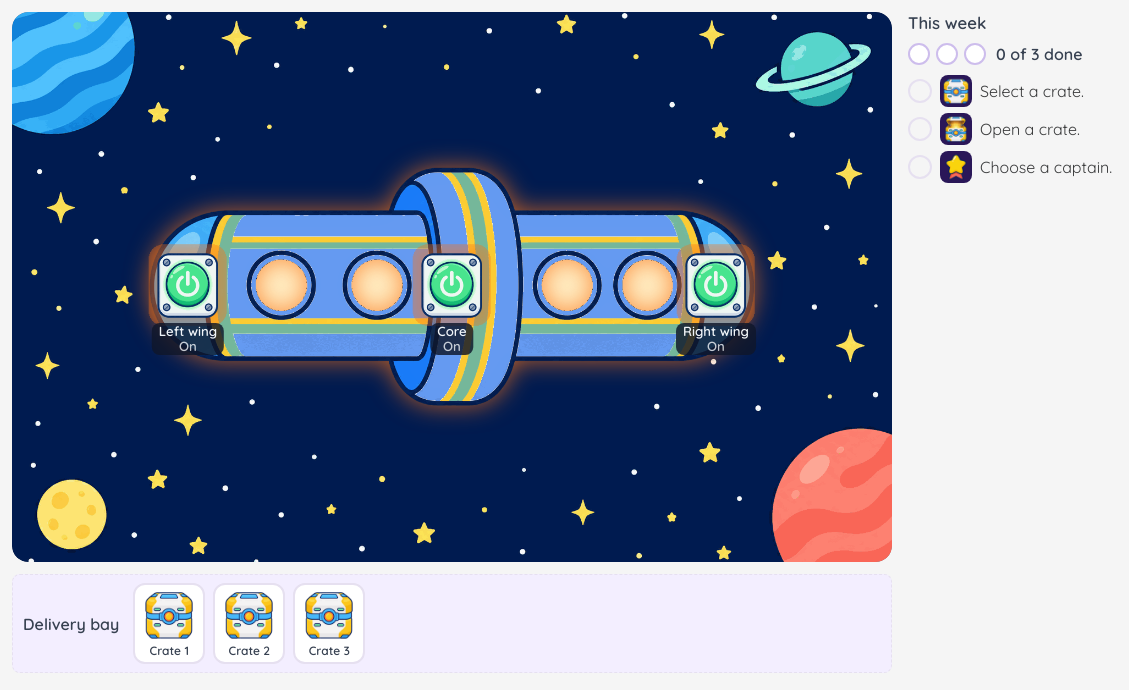
Scenario: Station UI - Lesson 2 (select, double-click, captain) › the delivery bay goes once every crate is open
Double-click the button with test id "crate-crate-1" at [169, 624], box [133, 583, 205, 664]
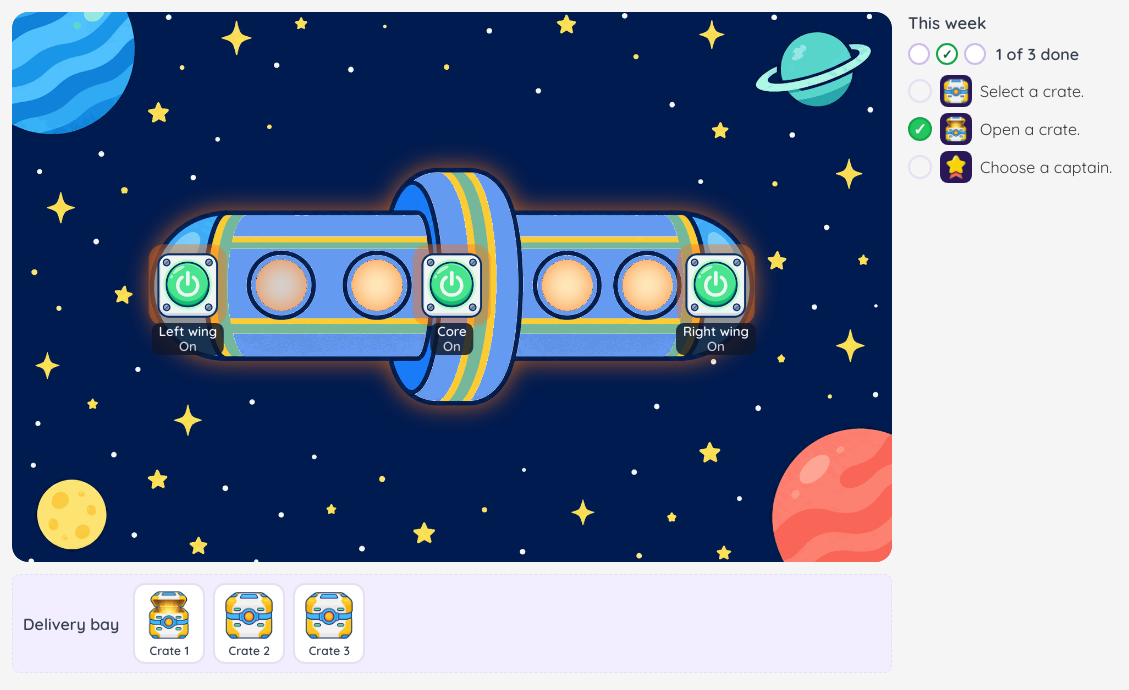
Double-click the button with test id "crate-crate-2" at [249, 624], box [213, 583, 285, 664]
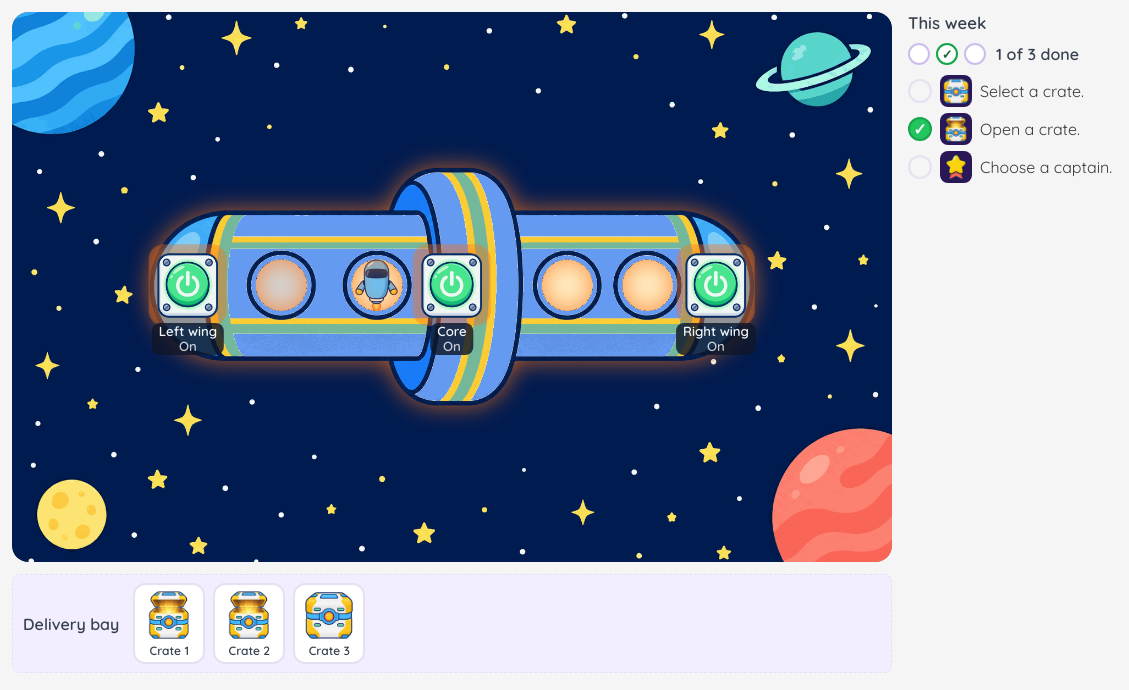
Double-click the button with test id "crate-crate-3" at [329, 624], box [293, 583, 365, 664]
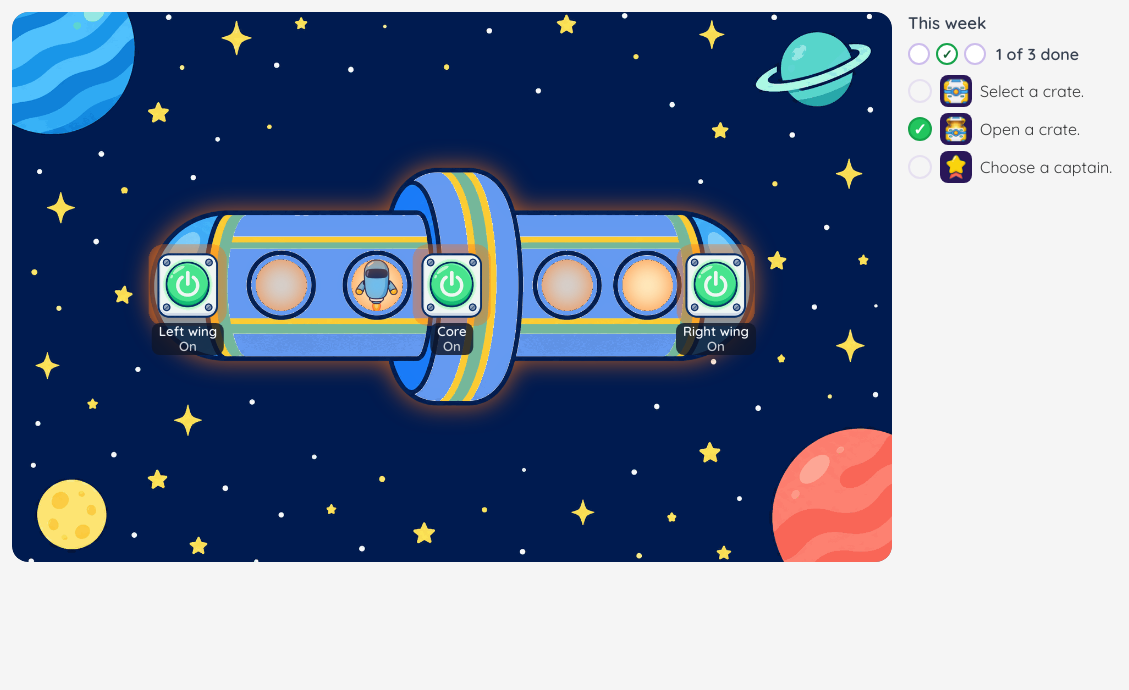
Now the element with test id "station-bay" is gone
